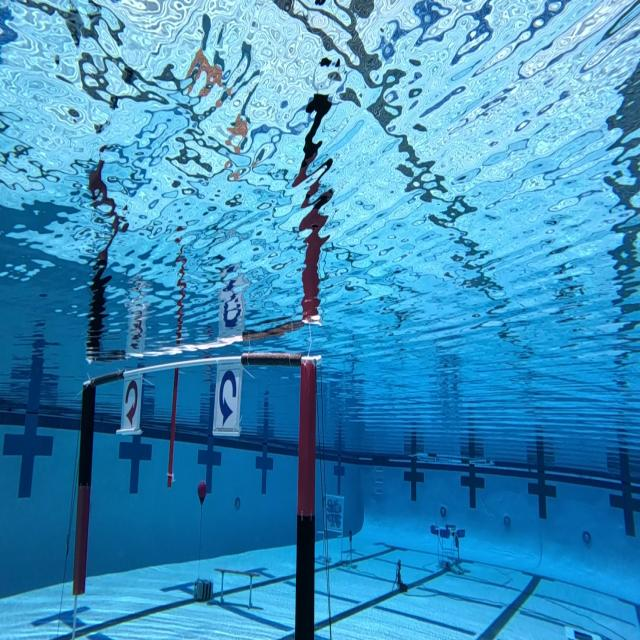blue_side: (217, 364, 240, 437)
red_side: (122, 376, 140, 429)
